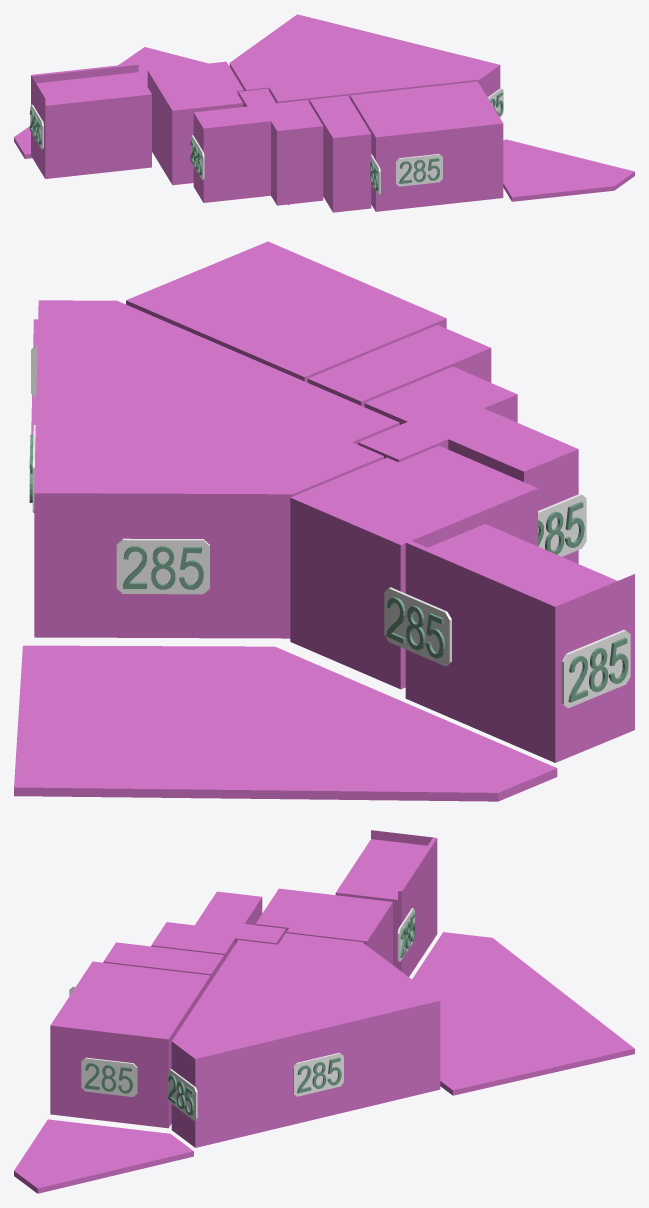
The picture shows the model from 3 angles, top to bottom: view 1: azimuth 30°, elevation 25°; view 2: azimuth 150°, elevation 25°; view 3: azimuth 270°, elevation 25°; orthographic projection. The views are drawn at different scales.
Visible parts, largest first — view 1: g_0, g_1, g_3, g_5, g_4, g_2, g_7, g_6, g_27; view 2: g_0, g_6, g_5, g_4, g_1, g_3, g_2, g_31, g_39, g_15, g_19; view 3: g_0, g_6, g_1, g_7, g_5, g_4, g_3, g_2, g_11, g_43, g_23.
Part boxes in pixels (x1,y1,x2,y2): g_0: (229, 14, 500, 103); g_1: (350, 81, 503, 211); g_3: (193, 88, 323, 205); g_5: (31, 63, 151, 178); g_4: (147, 61, 243, 185); g_2: (309, 95, 371, 212); g_7: (503, 139, 634, 201); g_6: (14, 47, 208, 158); g_27: (395, 154, 442, 186); g_0: (34, 300, 399, 638); g_6: (14, 645, 557, 801); g_5: (405, 524, 634, 762); g_4: (290, 445, 537, 689); g_1: (126, 241, 446, 382); g_3: (358, 366, 578, 563); g_2: (307, 325, 491, 407); g_31: (116, 538, 209, 594); g_39: (561, 629, 630, 708); g_15: (384, 587, 451, 666); g_19: (538, 494, 586, 556); g_0: (171, 933, 440, 1147); g_6: (412, 932, 634, 1095); g_1: (50, 961, 210, 1128); g_7: (14, 1119, 193, 1193); g_5: (335, 830, 437, 976); g_4: (255, 888, 392, 964); g_3: (151, 891, 285, 961); g_2: (103, 942, 223, 981); g_11: (81, 1057, 137, 1096); g_43: (293, 1052, 343, 1096); g_23: (167, 1069, 197, 1120).
Size of the model in its own units: 15.81 by 2.85 by 15.79.
